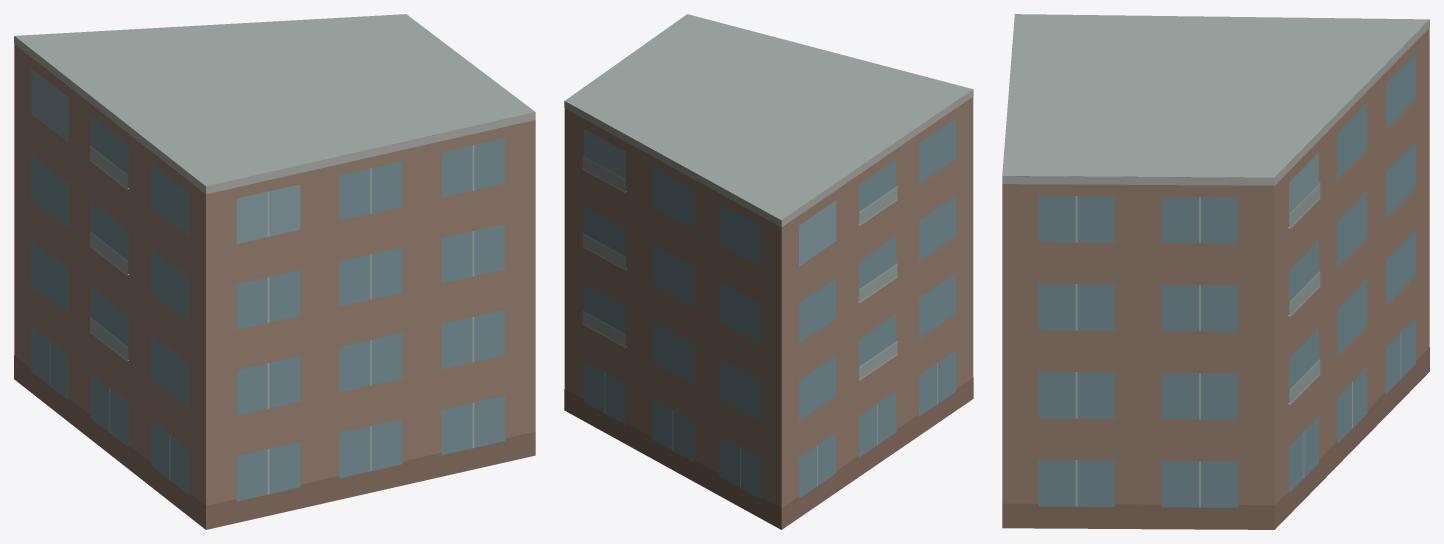
The model's file is survey-upis-32785076.glb.
3 renders of one model, left to right at view 1: azimuth 30°, elevation 25°; view 2: azimuth 150°, elevation 25°; view 3: azimuth 270°, elevation 25°, orthographic. The views are drawn at different scales.
Parts seen in each view (by area): view 1: survey-upis-32785076.tmp; view 2: survey-upis-32785076.tmp; view 3: survey-upis-32785076.tmp.
Boxes of the visible parts, x1,y1,x2,y2 form: survey-upis-32785076.tmp: [14, 14, 535, 529]; survey-upis-32785076.tmp: [564, 14, 973, 529]; survey-upis-32785076.tmp: [1002, 14, 1429, 529].
Bounding box in the file's own units: 10.57 × 10.6 × 11.67.
